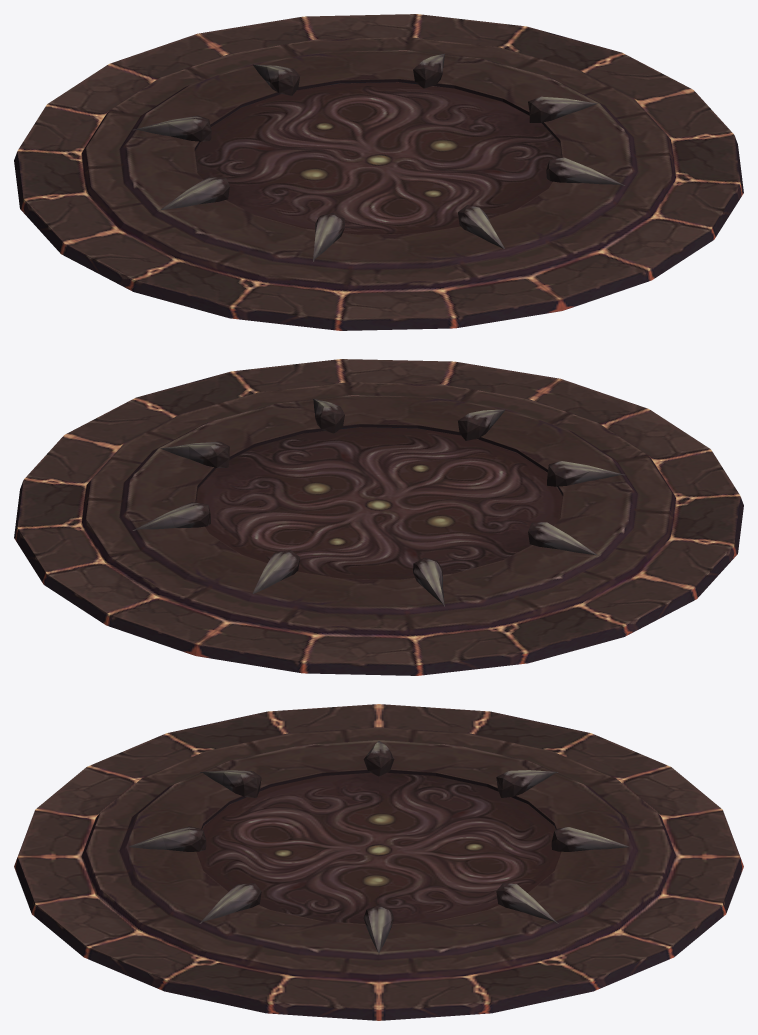
The model's file is sysd_prop01.FBX.
3 renders of one model, top to bottom at view 1: azimuth 30°, elevation 25°; view 2: azimuth 150°, elevation 25°; view 3: azimuth 270°, elevation 25°, orthographic.
Visible parts, largest first — view 1: sysd_prop01; view 2: sysd_prop01; view 3: sysd_prop01.
Boxes of the visible parts, x1,y1,x2,y2 form: sysd_prop01: (14,14,743,330); sysd_prop01: (14,359,743,675); sysd_prop01: (14,704,743,1020).
Size of the model in its own units: 1459 by 82.56 by 1459.
Materials: 1 (1 with a texture image).
